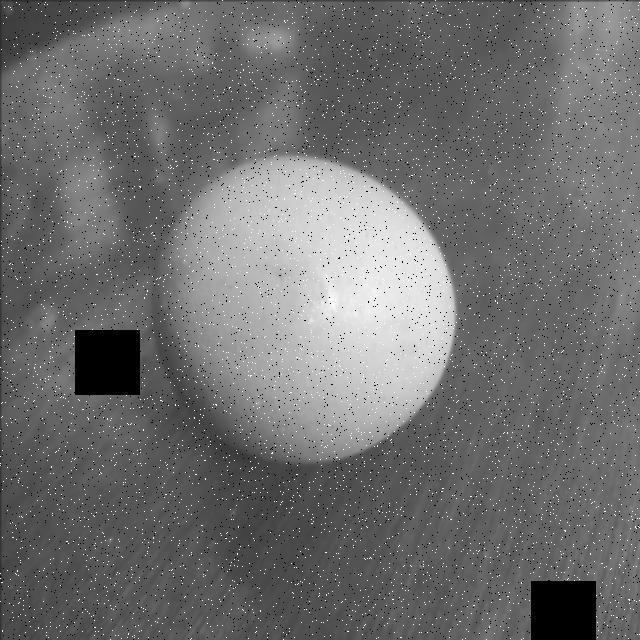egg: (144, 146, 458, 473)
